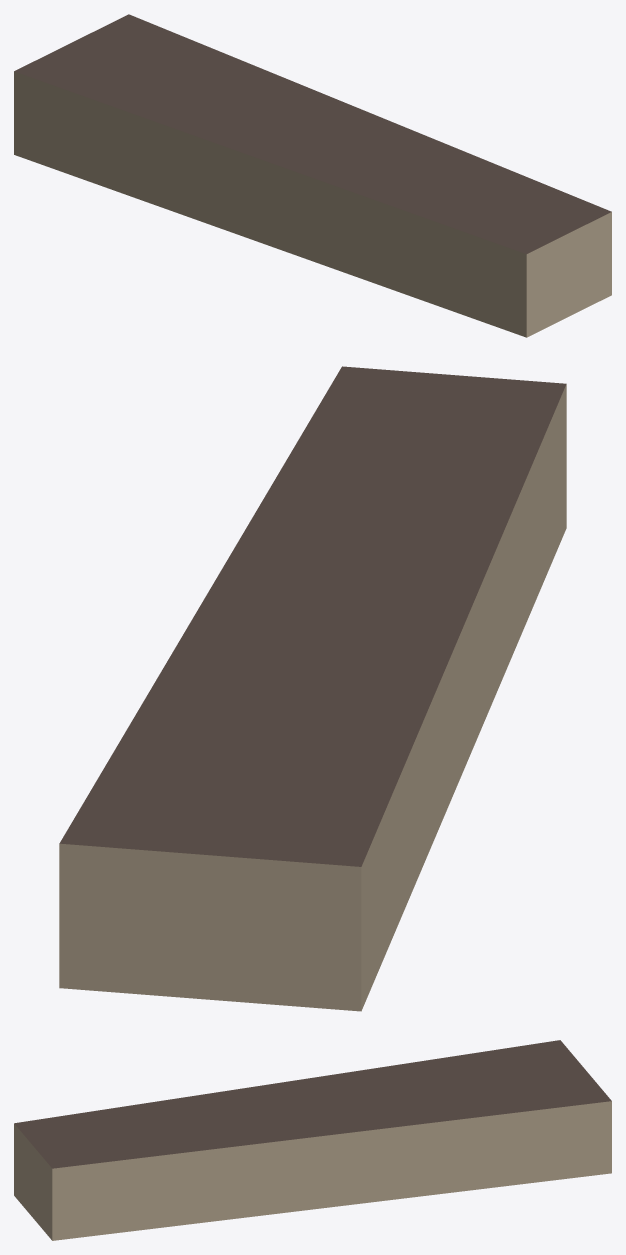
The picture shows the model from 3 angles, top to bottom: view 1: azimuth 30°, elevation 25°; view 2: azimuth 150°, elevation 25°; view 3: azimuth 270°, elevation 25°; orthographic projection. The views are drawn at different scales.
Visible parts, largest first — view 1: HP-w859467728; view 2: HP-w859467728; view 3: HP-w859467728.
Boxes of the visible parts, <box> form: HP-w859467728: <box>14,14,611,337</box>; HP-w859467728: <box>59,366,566,1011</box>; HP-w859467728: <box>14,1040,611,1240</box>.
Bounding box in the file's own units: 34.37 × 9 × 67.5.
